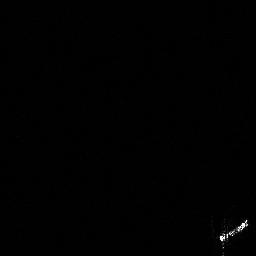ship: (219, 219, 248, 241)
